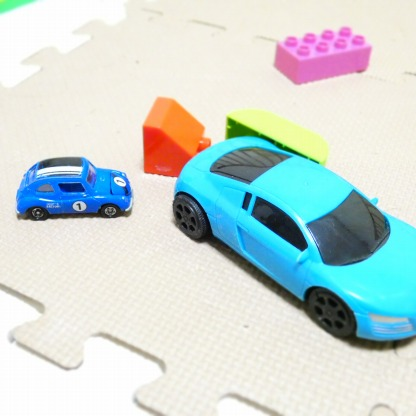car: (171, 123, 416, 345), (14, 155, 136, 221)
